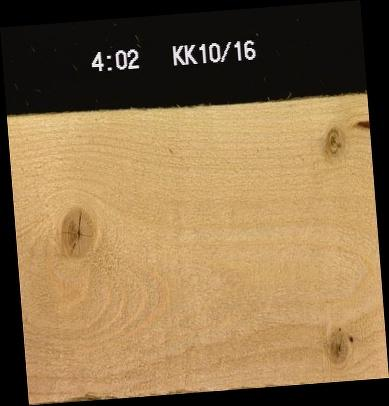sound_knot: (59, 203, 95, 257), (320, 327, 348, 365), (323, 125, 342, 155)
